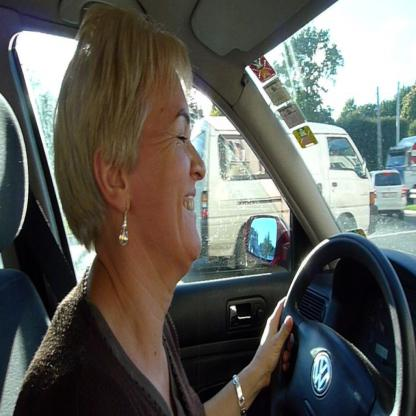Car: (87, 33, 416, 413), (370, 168, 406, 223), (386, 132, 416, 196)
